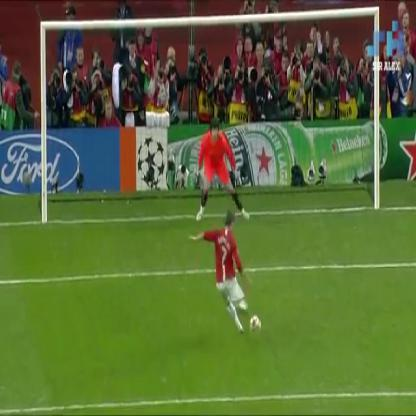penalty kick: (171, 7, 275, 365)
